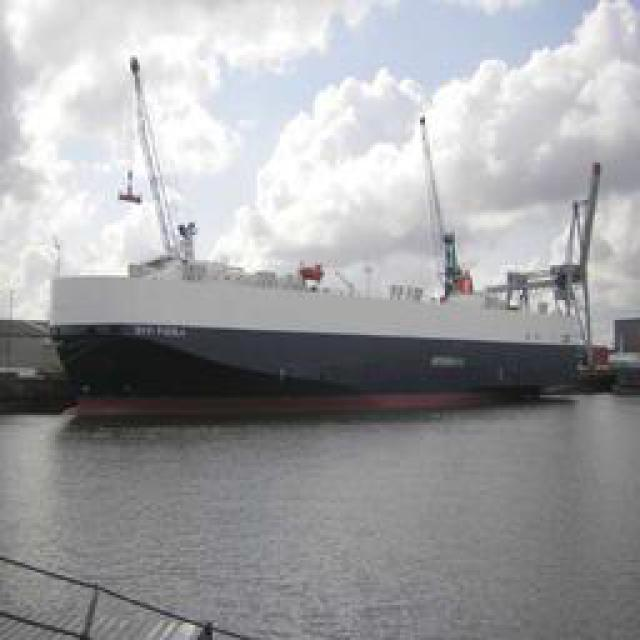Ship: (32, 149, 610, 399)
